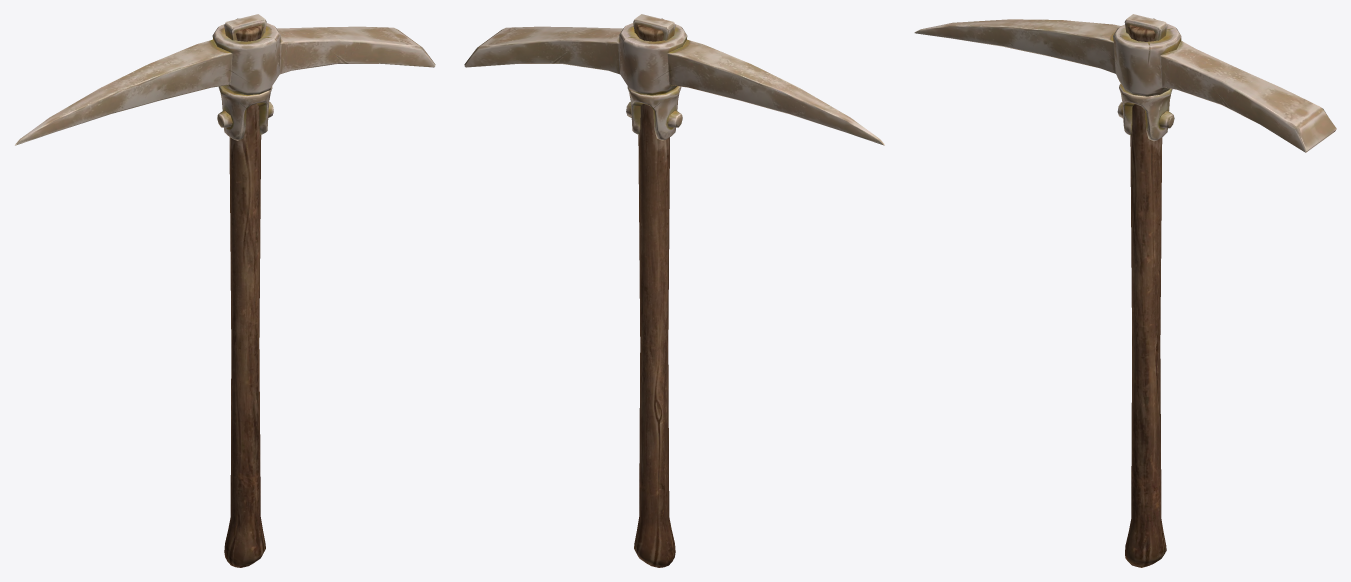
3 views of the same model, side by side, from view 1: azimuth 30°, elevation 25°; view 2: azimuth 150°, elevation 25°; view 3: azimuth 330°, elevation 25° (orthographic).
Visible parts, largest first — view 1: SM_Pickaxe_Iron_2H_01_LOD0; view 2: SM_Pickaxe_Iron_2H_01_LOD0; view 3: SM_Pickaxe_Iron_2H_01_LOD0.
Part boxes in pixels (left/top/right/bottom): SM_Pickaxe_Iron_2H_01_LOD0: left=15, top=14, right=435, bottom=567; SM_Pickaxe_Iron_2H_01_LOD0: left=464, top=14, right=884, bottom=567; SM_Pickaxe_Iron_2H_01_LOD0: left=914, top=14, right=1336, bottom=567.
Size of the model in its own units: 1.02 by 1.31 by 0.1478.
1 material, 1 textured.
